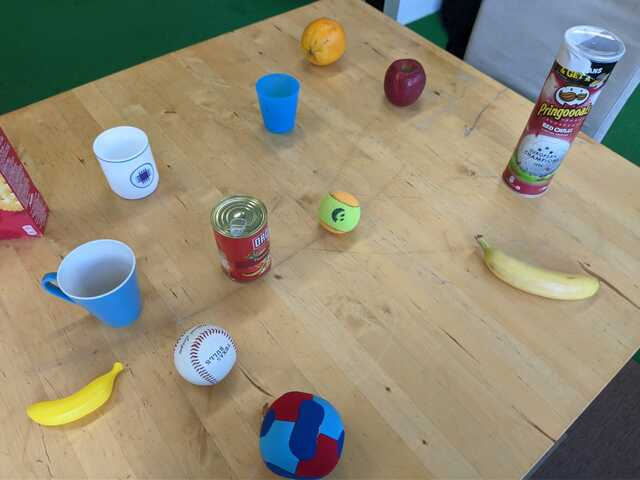001_chips_can: (502, 24, 626, 195)
003_cracker_box: (1, 123, 56, 241)
005_tomato_soup_can: (209, 194, 276, 282)
011_banana: (473, 233, 603, 302), (26, 360, 127, 427)
013_apple: (384, 59, 428, 107)
017_orange: (302, 17, 349, 66)
025_mug: (40, 240, 146, 327), (93, 125, 163, 200), (254, 73, 303, 135)
055_baseball: (172, 323, 239, 388)
056_tennis_ball: (317, 190, 364, 236)
057_racquetball: (258, 392, 347, 479)
